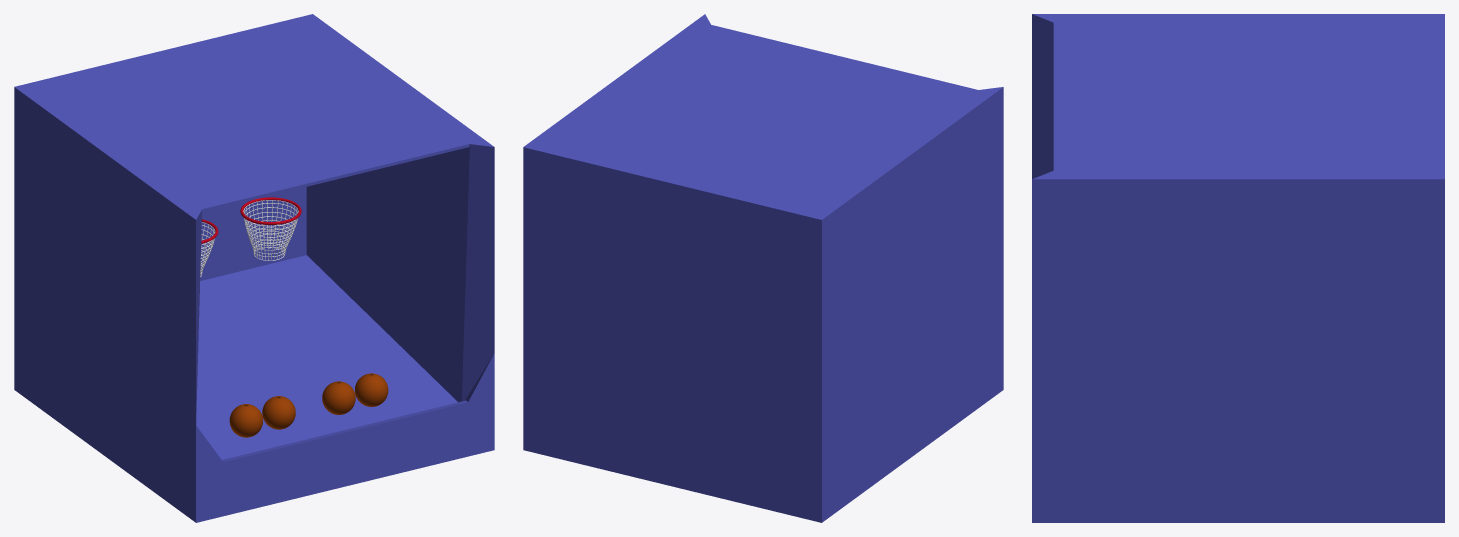
The model's file is Basketball Game.fbx.
3 views of the same model, side by side, from view 1: azimuth 30°, elevation 25°; view 2: azimuth 150°, elevation 25°; view 3: azimuth 270°, elevation 25° (orthographic). The views are drawn at different scales.
Parts seen in each view (by area): view 1: Basketball Stand, Nets, Ball 2, Ball 3, Ball 1, Ball 4, Rims; view 2: Basketball Stand; view 3: Basketball Stand.
Boxes of the visible parts, <box> form: Basketball Stand: <box>14,14,494,522</box>; Nets: <box>200,200,298,276</box>; Ball 2: <box>262,396,295,429</box>; Ball 3: <box>322,381,355,414</box>; Ball 1: <box>229,404,262,437</box>; Ball 4: <box>355,373,388,406</box>; Rims: <box>201,197,301,243</box>; Basketball Stand: <box>523,14,1003,522</box>; Basketball Stand: <box>1032,14,1444,522</box>.
Size of the model in its own units: 498 by 483 by 526.
Materials: 8 (8 with a texture image).
